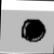correct: (19, 17, 47, 43)
